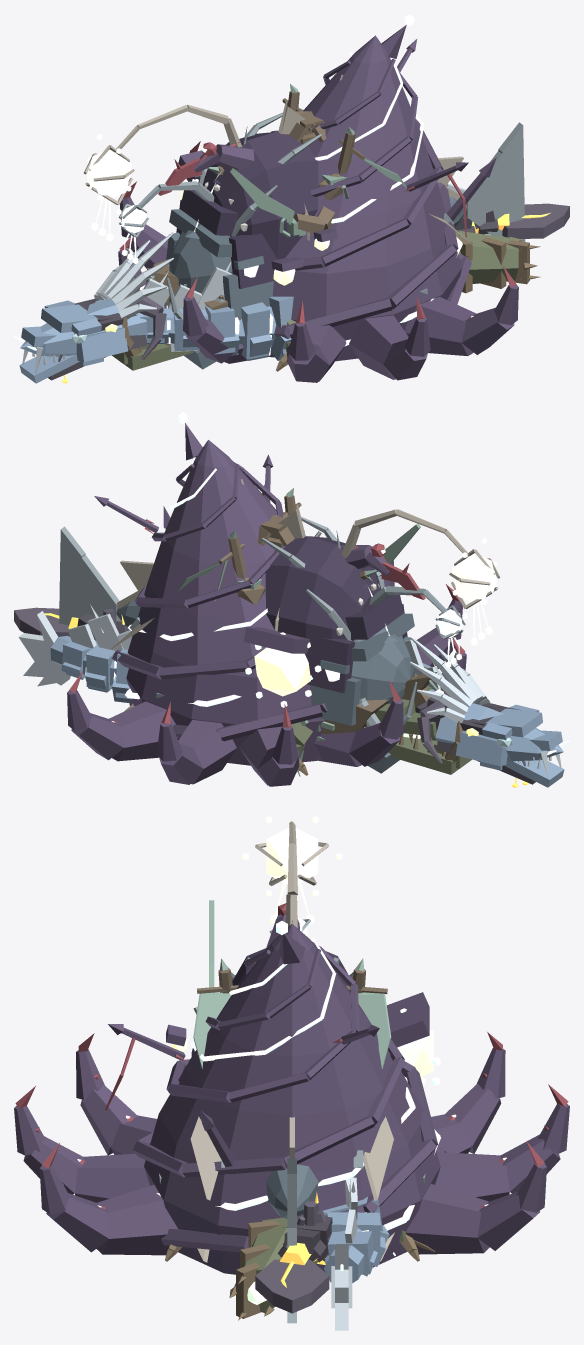
The model's file is creatures.glb.
The picture shows the model from 3 angles, top to bottom: view 1: azimuth 30°, elevation 25°; view 2: azimuth 150°, elevation 25°; view 3: azimuth 270°, elevation 25°; orthographic projection. The views are drawn at different scales.
Parts seen in each view (by area): view 1: Kraken_Body, Rimefang_Body, Noctyss_Body, Leviathan_Fins, Leviathan_Body, Rimefang_Fins, AdmiralWrack_Body, Gnashroot_Body, Noctyss_Fins, Pyrelisk_Fins, Gnashroot_Fins, Noctyss_Marks (+7 smaller); view 2: Kraken_Body, Noctyss_Body, Rimefang_Body, Rimefang_Fins, Leviathan_Body, Leviathan_Fins, AdmiralWrack_Body, Noctyss_Fins, Gnashroot_Body, Kraken_Eyes, Noctyss_Marks, Pyrelisk_Fins (+8 smaller); view 3: Kraken_Body, Noctyss_Fins, Pyrelisk_Fins, AdmiralWrack_Fins, Rimefang_Body, Kraken_Marks, Noctyss_Marks, Gnashroot_Fins, Rimefang_Fins, Leviathan_Body, Kraken_Fins, Leviathan_Fins (+5 smaller).
Boxes of the visible parts, x1,y1,x2,y2 form: Kraken_Body: (118,25,518,382); Rimefang_Body: (19,296,293,383); Noctyss_Body: (176,132,318,288); Leviathan_Fins: (119,112,525,320); Leviathan_Body: (166,196,467,369); Rimefang_Fins: (22,183,490,374); AdmiralWrack_Body: (147,91,364,309); Gnashroot_Body: (112,230,518,370); Noctyss_Fins: (84,74,472,244); Pyrelisk_Fins: (58,203,569,361); Gnashroot_Fins: (122,235,540,371); Noctyss_Marks: (87,134,131,241); Kraken_Body: (67,423,466,786); Noctyss_Body: (265,536,407,727); Rimefang_Body: (50,636,564,787); Rimefang_Fins: (18,604,561,778); Leviathan_Body: (116,601,414,773); Leviathan_Fins: (59,516,465,726); AdmiralWrack_Body: (218,495,436,734); Noctyss_Fins: (111,479,500,711); Gnashroot_Body: (291,685,471,774); Kraken_Eyes: (254,647,310,696); Noctyss_Marks: (452,538,496,645); Pyrelisk_Fins: (14,607,525,766); Kraken_Body: (14,924,569,1274); Noctyss_Fins: (190,821,394,1262); Pyrelisk_Fins: (255,1201,329,1313); AdmiralWrack_Fins: (193,900,391,1069); Rimefang_Body: (322,1197,389,1282); Kraken_Marks: (77,921,506,1230); Noctyss_Marks: (242,816,342,924); Gnashroot_Fins: (165,1220,435,1320); Rimefang_Fins: (331,1177,357,1330); Leviathan_Body: (266,1164,318,1218); Kraken_Fins: (15,1032,568,1209); Leviathan_Fins: (159,919,425,1323).
Bounding box in the file's own units: 23.7 × 12.62 × 17.24.
